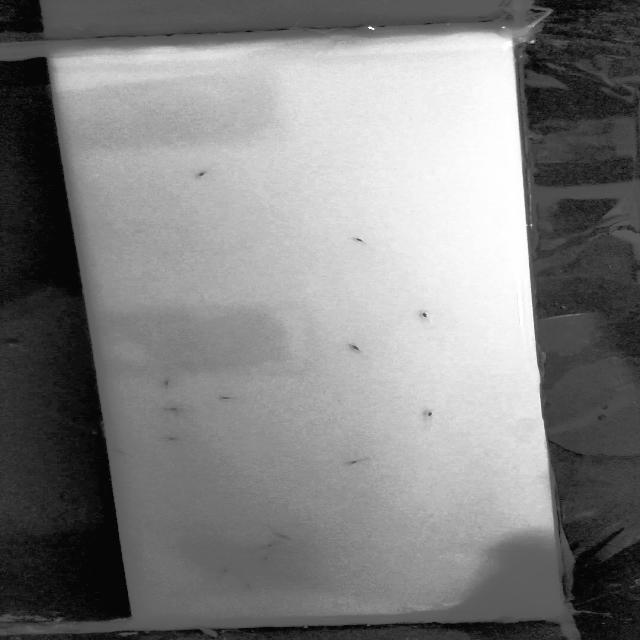shrimp: (331, 335, 383, 362), (404, 305, 448, 332), (332, 230, 384, 252), (151, 428, 198, 451), (335, 451, 376, 472), (410, 405, 452, 424), (179, 165, 222, 183), (142, 373, 182, 392), (147, 400, 189, 416), (203, 561, 239, 578), (209, 391, 236, 409), (271, 528, 302, 541), (253, 542, 286, 554), (254, 553, 281, 567), (237, 578, 259, 594), (108, 445, 126, 460)
